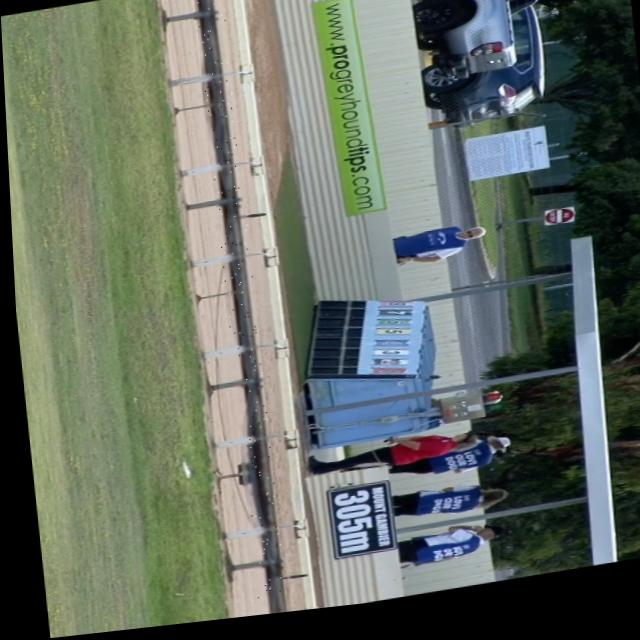rail: (194, 0, 279, 620)
